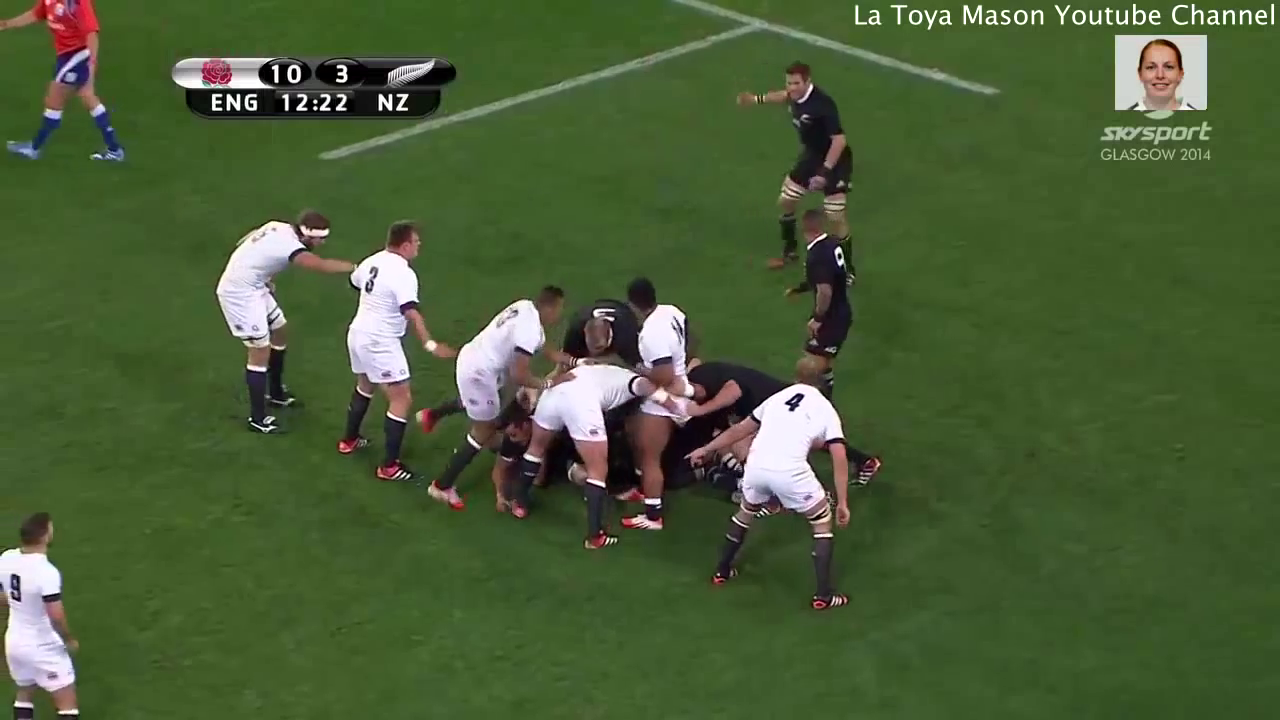player: (681, 352, 867, 620), (403, 277, 578, 521), (657, 343, 897, 501), (710, 52, 866, 295), (208, 203, 361, 450), (493, 344, 653, 560), (328, 206, 445, 488), (1, 1, 135, 173), (1, 504, 103, 720), (613, 268, 685, 542), (772, 200, 869, 396), (546, 279, 643, 373)
ruck: (479, 294, 857, 537)
